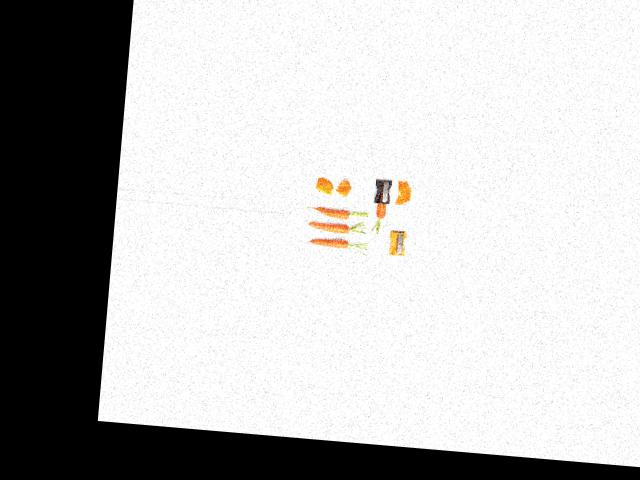carrot: (312, 200, 355, 225)
